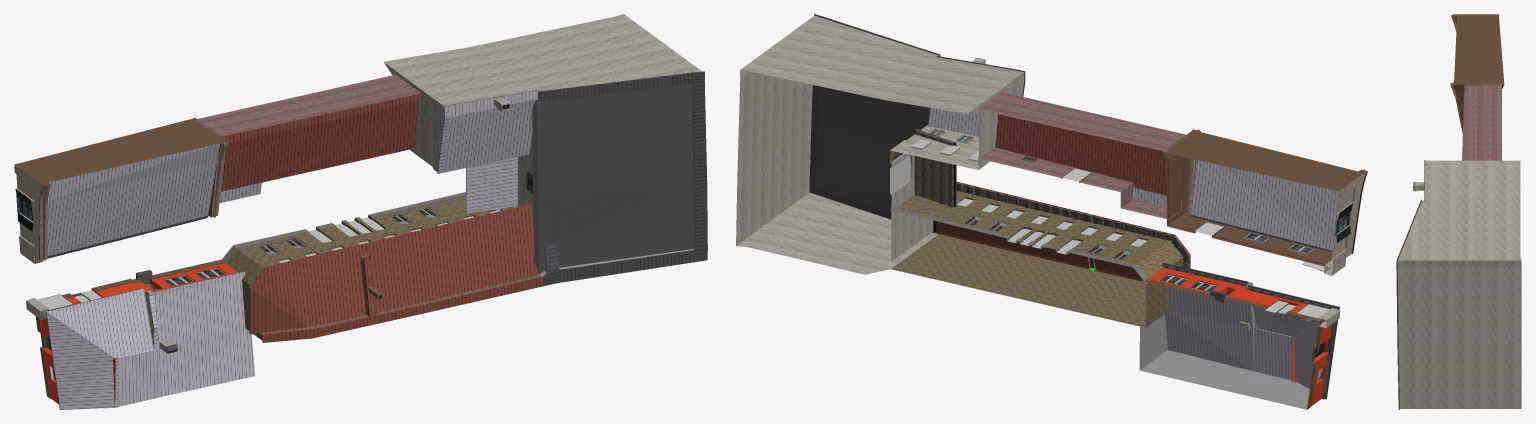
File: Aia_10a.obj
3 views of the same model, side by side, from view 1: azimuth 30°, elevation 25°; view 2: azimuth 150°, elevation 25°; view 3: azimuth 270°, elevation 25° (orthographic). The views are drawn at different scales.
Visible parts, largest first — view 1: Aia_10a; view 2: Aia_10a; view 3: Aia_10a.
Boxes of the visible parts, x1,y1,x2,y2 form: Aia_10a: (14,14,707,409); Aia_10a: (736,14,1367,409); Aia_10a: (1396,14,1521,409).
Bounding box in the file's own units: 59.87 × 21.96 × 13.23.
